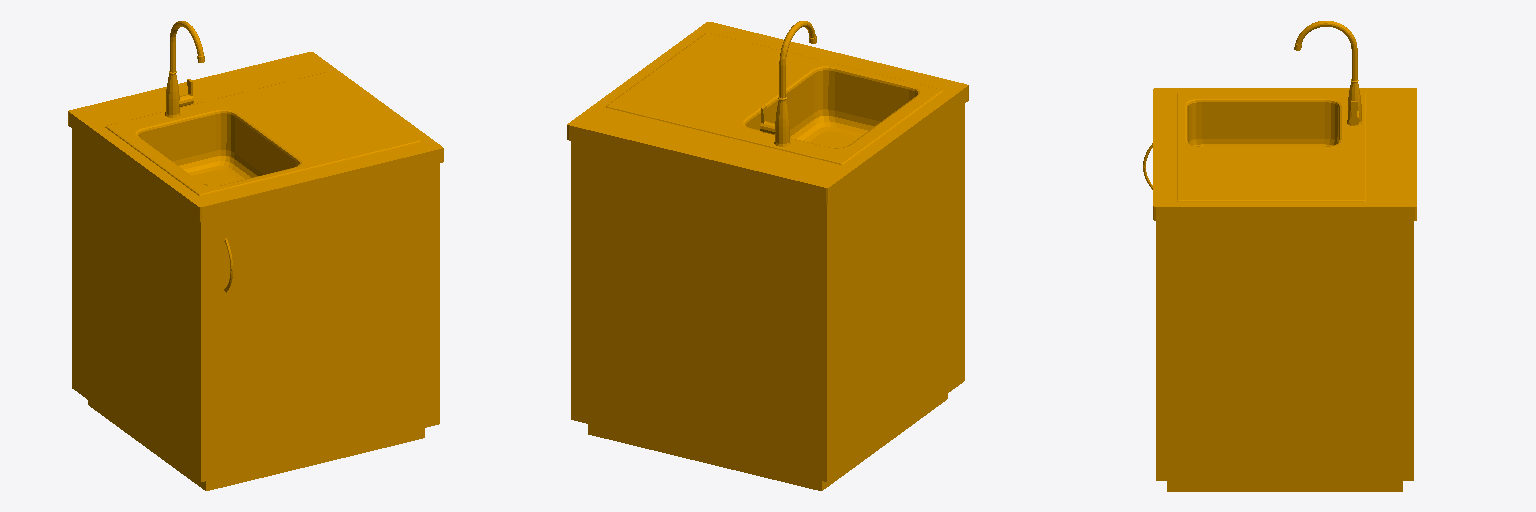
The robot description file, URDF, robot "kitchen_sink":
<?xml version="1.0" ?>
<robot name="kitchen_sink" version="1.0">
  <link name="base_link">
    <inertial>
      <origin rpy="0.0 0.0 0.0" xyz="0.0 0.0 0.0"/>
      <mass value="0.0"/>
      <inertia ixx="0.001" ixy="0.0" ixz="0.0" iyy="0.001" iyz="0.0" izz="0.001"/>
    </inertial>
    <visual name="kitchen_sink___1">
      <origin rpy="0.0 0.0 0.0" xyz="0.0 -0.0 0.0"/>
      <geometry>
        <mesh filename="shape/visual/kitchen_sink_m1_vm.obj"/>
      </geometry>
    </visual>
    <visual name="kitchen_sink___2">
      <origin rpy="0.0 0.0 0.0" xyz="0.0 -0.0 0.0"/>
      <geometry>
        <mesh filename="shape/visual/kitchen_sink_m2_vm.obj"/>
      </geometry>
    </visual>
    <visual name="kitchen_sink___3">
      <origin rpy="0.0 0.0 0.0" xyz="0.0 -0.0 0.0"/>
      <geometry>
        <mesh filename="shape/visual/kitchen_sink_m3_vm.obj"/>
      </geometry>
    </visual>
    <visual name="kitchen_sink___4">
      <origin rpy="0.0 0.0 0.0" xyz="0.0 -0.0 0.0"/>
      <geometry>
        <mesh filename="shape/visual/kitchen_sink_m4_vm.obj"/>
      </geometry>
    </visual>
    <collision>
      <origin rpy="0.0 0.0 0.0" xyz="0.0 -0.0 0.0"/>
      <geometry>
        <mesh filename="shape/collision/kitchen_sink_cm.obj"/>
      </geometry>
    </collision>
  </link>
</robot>

--- Render facts (derived) ---
3 views of the same robot in one strip: view 1: azimuth 30°, elevation 25°; view 2: azimuth 150°, elevation 25°; view 3: azimuth 270°, elevation 25° (orthographic).
Model kitchen_sink with 1 links and 0 joints (none), rooted at base_link, posed all joints at 0.
Links seen in each view (by area): view 1: base_link; view 2: base_link; view 3: base_link.
Boxes of the visible links, box(x1,y1,x2,y2) form: base_link: box(68, 21, 443, 490); base_link: box(567, 21, 968, 490); base_link: box(1143, 21, 1416, 491).
Bounding box of the posed robot: 0.9008 × 0.8779 × 1.39 m (x, y, z).
4 mesh visuals loaded from 4 distinct referenced files (4 OBJ).